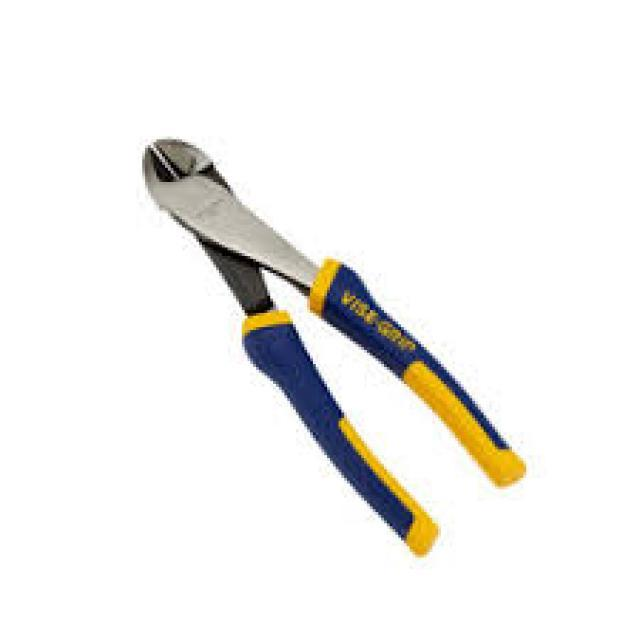pliers: (121, 124, 524, 568)
